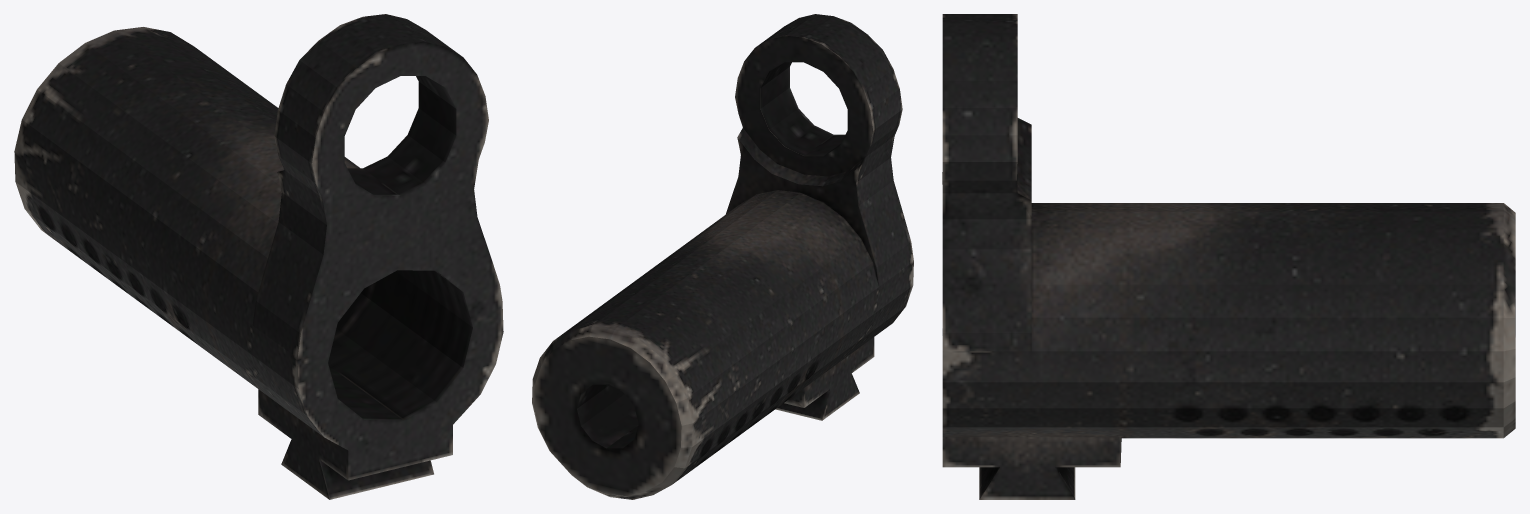
3 views of the same model, side by side, from view 1: azimuth 30°, elevation 25°; view 2: azimuth 150°, elevation 25°; view 3: azimuth 270°, elevation 25° (orthographic). The views are drawn at different scales.
Parts seen in each view (by area): view 1: TW_5aafa1c2e5b5b00015042a56_PZ_Import; view 2: TW_5aafa1c2e5b5b00015042a56_PZ_Import; view 3: TW_5aafa1c2e5b5b00015042a56_PZ_Import.
Boxes of the visible parts, x1,y1,x2,y2 form: TW_5aafa1c2e5b5b00015042a56_PZ_Import: (14, 14, 503, 499); TW_5aafa1c2e5b5b00015042a56_PZ_Import: (532, 14, 913, 499); TW_5aafa1c2e5b5b00015042a56_PZ_Import: (942, 14, 1515, 499).
Bounding box in the file's own units: 0.0134 × 0.0325 × 0.0283.
Materials: 1 (1 with a texture image).
